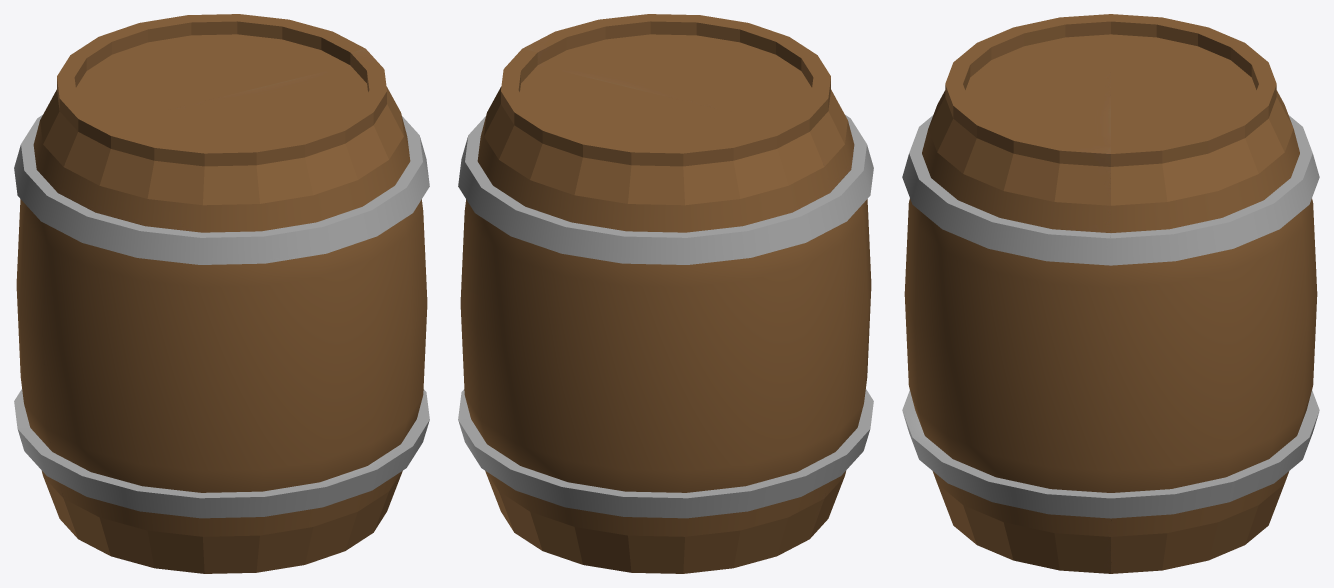
The model's file is Barrel.fbx.
3 renders of one model, left to right at view 1: azimuth 30°, elevation 25°; view 2: azimuth 150°, elevation 25°; view 3: azimuth 270°, elevation 25°, orthographic.
Parts seen in each view (by area): view 1: pCylinder4; view 2: pCylinder4; view 3: pCylinder4.
Boxes of the visible parts, x1,y1,x2,y2 form: pCylinder4: (14, 14, 429, 573); pCylinder4: (458, 14, 873, 573); pCylinder4: (902, 14, 1319, 573).
Bounding box in the file's own units: 1.74 × 1.93 × 1.74.
Materials: 1 (1 with a texture image).
